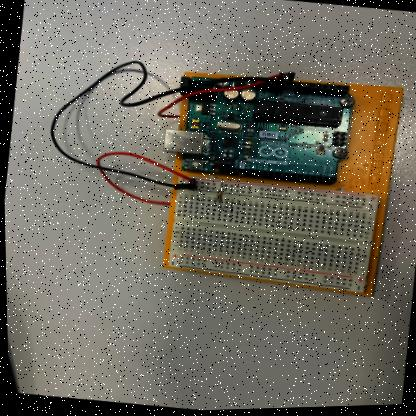5V: (150, 73, 298, 154), (83, 146, 170, 212), (170, 165, 198, 189), (169, 154, 171, 165)
ARDUINO: (179, 77, 351, 187)
Breadboard: (166, 175, 381, 295)
GND: (37, 57, 289, 193)
Resistor: (215, 190, 222, 204)
